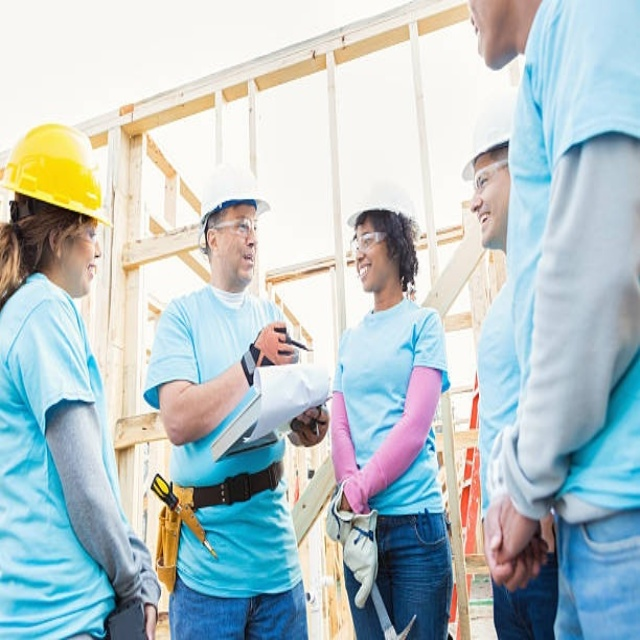Gafas: (471, 154, 509, 193), (352, 226, 389, 256), (211, 215, 260, 237), (64, 218, 101, 243)
Guantes: (324, 482, 385, 607), (236, 320, 302, 384), (285, 398, 332, 449)
Sin_guantes: (475, 488, 557, 595)
Sin_mascara: (476, 207, 502, 242), (75, 259, 98, 285), (235, 246, 255, 273), (359, 260, 376, 285)
